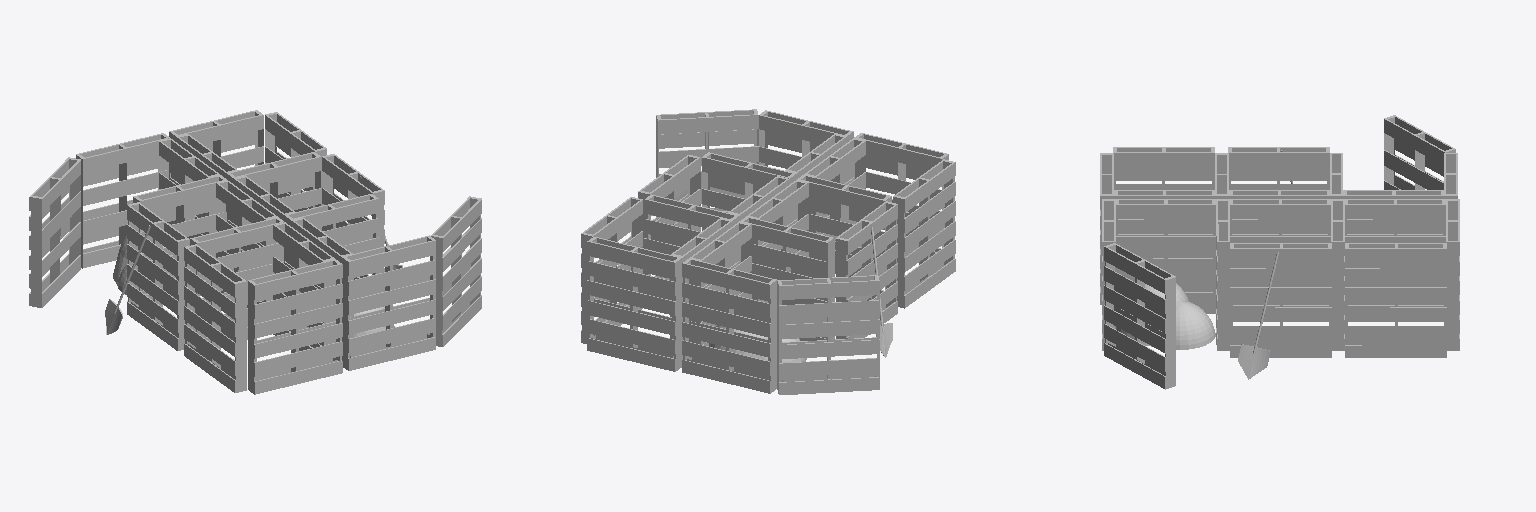
Rendered from compostboxes.obj.
3 renders of one model, left to right at view 1: azimuth 30°, elevation 25°; view 2: azimuth 150°, elevation 25°; view 3: azimuth 270°, elevation 25°, orthographic.
Visible parts, largest first — view 1: Mesh4 pallet1975_06_21_12_24_09__0600_2 Compost_Bins1 Compost_Bi, Mesh26 pallet1975_06_21_12_24_09__0600_20 Compost_Bins2 Compost_, Mesh5 pallet1975_06_21_12_24_09__0600_3 Compost_Bins1 Compost_Bi, Mesh12 pallet1975_06_21_12_24_09__0600_10 Compost_Bins1 Compost_, Mesh8 pallet1975_06_21_12_24_09__0600_6 Compost_Bins1 Compost_Bi, Mesh11 pallet1975_06_21_12_24_09__0600_9 Compost_Bins1 Compost_B, Mesh25 pallet1975_06_21_12_24_09__0600_19 Compost_Bins2 Compost_, Mesh6 pallet1975_06_21_12_24_09__0600_4 Compost_Bins1 Compost_Bi, Mesh9 pallet1975_06_21_12_24_09__0600_7 Compost_Bins1 Compost_Bi, Mesh23 pallet1975_06_21_12_24_09__0600_17 Compost_Bins2 Compost_, Mesh18 pallet1975_06_21_12_24_09__0600_12 Compost_Bins2 Compost_, Mesh20 pallet1975_06_21_12_24_09__0600_14 Compost_Bins2 Compost_ (+8 smaller); view 2: Mesh11 pallet1975_06_21_12_24_09__0600_9 Compost_Bins1 Compost_B, Mesh12 pallet1975_06_21_12_24_09__0600_10 Compost_Bins1 Compost_, Mesh18 pallet1975_06_21_12_24_09__0600_12 Compost_Bins2 Compost_, Mesh5 pallet1975_06_21_12_24_09__0600_3 Compost_Bins1 Compost_Bi, Mesh25 pallet1975_06_21_12_24_09__0600_19 Compost_Bins2 Compost_, Mesh9 pallet1975_06_21_12_24_09__0600_7 Compost_Bins1 Compost_Bi, Mesh8 pallet1975_06_21_12_24_09__0600_6 Compost_Bins1 Compost_Bi, Mesh6 pallet1975_06_21_12_24_09__0600_4 Compost_Bins1 Compost_Bi, Mesh4 pallet1975_06_21_12_24_09__0600_2 Compost_Bins1 Compost_Bi, Mesh20 pallet1975_06_21_12_24_09__0600_14 Compost_Bins2 Compost_, Mesh26 pallet1975_06_21_12_24_09__0600_20 Compost_Bins2 Compost_, Mesh23 pallet1975_06_21_12_24_09__0600_17 Compost_Bins2 Compost_ (+8 smaller); view 3: Mesh19 pallet1975_06_21_12_24_09__0600_13 Compost_Bins2 Compost_, Mesh22 pallet1975_06_21_12_24_09__0600_16 Compost_Bins2 Compost_, Mesh25 pallet1975_06_21_12_24_09__0600_19 Compost_Bins2 Compost_, Mesh24 pallet1975_06_21_12_24_09__0600_18 Compost_Bins2 Compost_, Mesh17 pallet1975_06_21_12_24_09__0600_11 Compost_Bins2 Compost_, Mesh21 pallet1975_06_21_12_24_09__0600_15 Compost_Bins2 Compost_, Mesh5 pallet1975_06_21_12_24_09__0600_3 Compost_Bins1 Compost_Bi, Mesh8 pallet1975_06_21_12_24_09__0600_6 Compost_Bins1 Compost_Bi, Mesh11 pallet1975_06_21_12_24_09__0600_9 Compost_Bins1 Compost_B, Mesh23 pallet1975_06_21_12_24_09__0600_17 Compost_Bins2 Compost_, Mesh18 pallet1975_06_21_12_24_09__0600_12 Compost_Bins2 Compost_, Mesh20 pallet1975_06_21_12_24_09__0600_14 Compost_Bins2 Compost_ (+10 smaller).
Part boxes in pixels (left/top/right/bottom): Mesh4 pallet1975_06_21_12_24_09__0600_2 Compost_Bins1 Compost_Bi: left=248, top=259, right=342, bottom=394; Mesh26 pallet1975_06_21_12_24_09__0600_20 Compost_Bins2 Compost_: left=342, top=235, right=435, bottom=370; Mesh5 pallet1975_06_21_12_24_09__0600_3 Compost_Bins1 Compost_Bi: left=184, top=244, right=246, bottom=392; Mesh12 pallet1975_06_21_12_24_09__0600_10 Compost_Bins1 Compost_: left=76, top=133, right=170, bottom=268; Mesh8 pallet1975_06_21_12_24_09__0600_6 Compost_Bins1 Compost_Bi: left=127, top=202, right=189, bottom=350; Mesh11 pallet1975_06_21_12_24_09__0600_9 Compost_Bins1 Compost_B: left=29, top=157, right=80, bottom=307; Mesh25 pallet1975_06_21_12_24_09__0600_19 Compost_Bins2 Compost_: left=431, top=196, right=481, bottom=346; Mesh6 pallet1975_06_21_12_24_09__0600_4 Compost_Bins1 Compost_Bi: left=190, top=217, right=283, bottom=342; Mesh9 pallet1975_06_21_12_24_09__0600_7 Compost_Bins1 Compost_Bi: left=133, top=175, right=226, bottom=299; Mesh23 pallet1975_06_21_12_24_09__0600_17 Compost_Bins2 Compost_: left=284, top=194, right=378, bottom=277; Mesh18 pallet1975_06_21_12_24_09__0600_12 Compost_Bins2 Compost_: left=169, top=110, right=263, bottom=180; Mesh20 pallet1975_06_21_12_24_09__0600_14 Compost_Bins2 Compost_: left=227, top=152, right=320, bottom=229; Mesh11 pallet1975_06_21_12_24_09__0600_9 Compost_Bins1 Compost_B: left=777, top=275, right=879, bottom=394; Mesh12 pallet1975_06_21_12_24_09__0600_10 Compost_Bins1 Compost_: left=682, top=258, right=776, bottom=393; Mesh18 pallet1975_06_21_12_24_09__0600_12 Compost_Bins2 Compost_: left=587, top=237, right=681, bottom=371; Mesh5 pallet1975_06_21_12_24_09__0600_3 Compost_Bins1 Compost_Bi: left=893, top=159, right=955, bottom=308; Mesh25 pallet1975_06_21_12_24_09__0600_19 Compost_Bins2 Compost_: left=656, top=109, right=758, bottom=223; Mesh9 pallet1975_06_21_12_24_09__0600_7 Compost_Bins1 Compost_Bi: left=740, top=216, right=834, bottom=340; Mesh8 pallet1975_06_21_12_24_09__0600_6 Compost_Bins1 Compost_Bi: left=836, top=201, right=897, bottom=338; Mesh6 pallet1975_06_21_12_24_09__0600_4 Compost_Bins1 Compost_Bi: left=797, top=175, right=891, bottom=298; Mesh4 pallet1975_06_21_12_24_09__0600_2 Compost_Bins1 Compost_Bi: left=854, top=133, right=948, bottom=256; Mesh20 pallet1975_06_21_12_24_09__0600_14 Compost_Bins2 Compost_: left=644, top=194, right=738, bottom=313; Mesh26 pallet1975_06_21_12_24_09__0600_20 Compost_Bins2 Compost_: left=759, top=110, right=853, bottom=181; Mesh23 pallet1975_06_21_12_24_09__0600_17 Compost_Bins2 Compost_: left=702, top=152, right=796, bottom=230; Mesh19 pallet1975_06_21_12_24_09__0600_13 Compost_Bins2 Compost_: left=1345, top=243, right=1446, bottom=357; Mesh22 pallet1975_06_21_12_24_09__0600_16 Compost_Bins2 Compost_: left=1230, top=243, right=1331, bottom=357; Mesh25 pallet1975_06_21_12_24_09__0600_19 Compost_Bins2 Compost_: left=1104, top=243, right=1175, bottom=389; Mesh24 pallet1975_06_21_12_24_09__0600_18 Compost_Bins2 Compost_: left=1116, top=199, right=1215, bottom=313; Mesh17 pallet1975_06_21_12_24_09__0600_11 Compost_Bins2 Compost_: left=1345, top=199, right=1445, bottom=304; Mesh21 pallet1975_06_21_12_24_09__0600_15 Compost_Bins2 Compost_: left=1230, top=199, right=1330, bottom=304; Mesh5 pallet1975_06_21_12_24_09__0600_3 Compost_Bins1 Compost_Bi: left=1113, top=147, right=1214, bottom=189; Mesh8 pallet1975_06_21_12_24_09__0600_6 Compost_Bins1 Compost_Bi: left=1228, top=147, right=1329, bottom=189; Mesh11 pallet1975_06_21_12_24_09__0600_9 Compost_Bins1 Compost_B: left=1384, top=115, right=1455, bottom=189; Mesh23 pallet1975_06_21_12_24_09__0600_17 Compost_Bins2 Compost_: left=1216, top=199, right=1229, bottom=350; Mesh18 pallet1975_06_21_12_24_09__0600_12 Compost_Bins2 Compost_: left=1446, top=199, right=1459, bottom=350; Mesh20 pallet1975_06_21_12_24_09__0600_14 Compost_Bins2 Compost_: left=1331, top=199, right=1344, bottom=350.
Size of the model in its own units: 393 by 130 by 362.